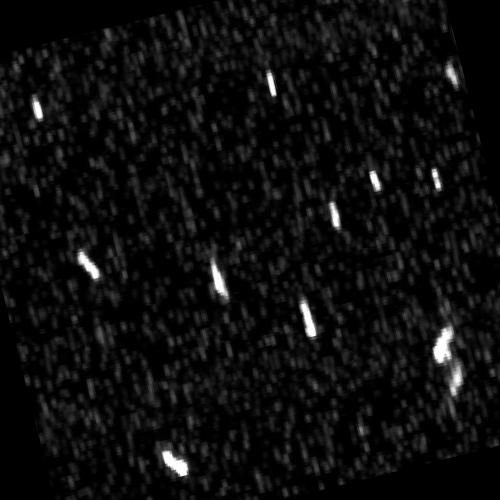ship: (431, 320, 456, 364), (298, 293, 318, 339), (76, 248, 102, 283), (161, 448, 189, 478), (209, 256, 228, 298), (448, 361, 464, 398), (327, 200, 342, 230), (31, 93, 45, 122), (265, 67, 278, 98), (429, 166, 444, 192), (445, 63, 460, 88), (369, 167, 383, 193)
